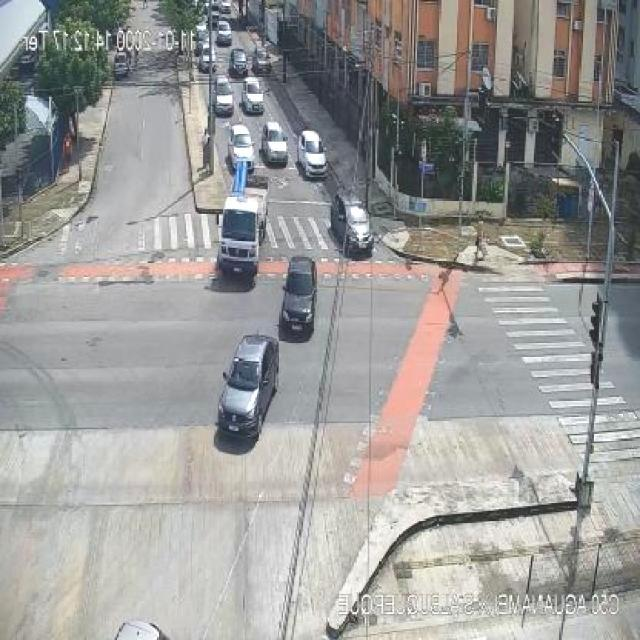Car: (216, 334, 279, 441), (280, 257, 318, 334), (332, 192, 374, 256), (297, 129, 328, 178), (227, 123, 255, 171), (260, 122, 288, 165), (241, 77, 265, 114), (213, 76, 234, 113), (199, 45, 218, 75), (229, 48, 248, 77), (216, 20, 233, 45), (114, 53, 130, 79), (220, 1, 232, 15)
Truck: (213, 184, 270, 278)
